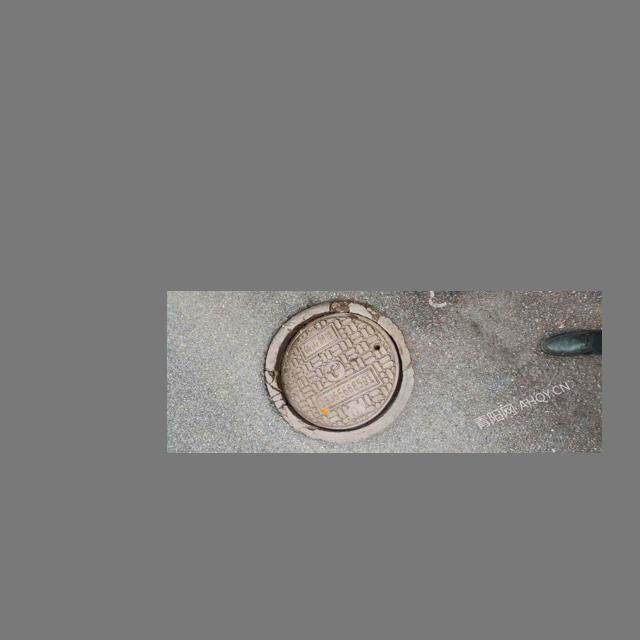circle: (243, 300, 423, 441)
